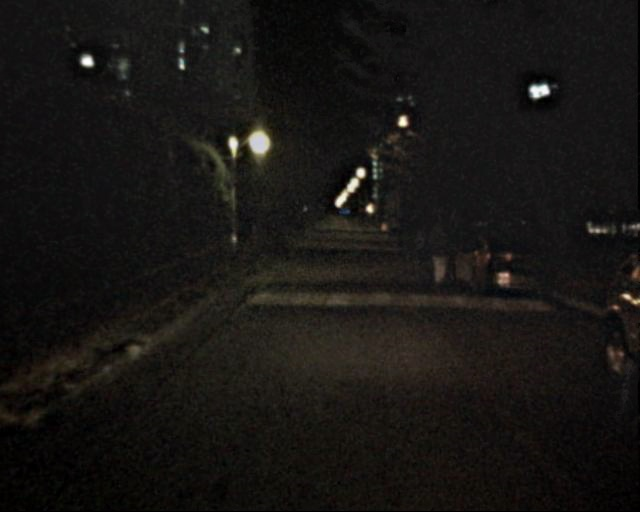person: (617, 252, 640, 438), (424, 228, 448, 287), (411, 228, 431, 276)
